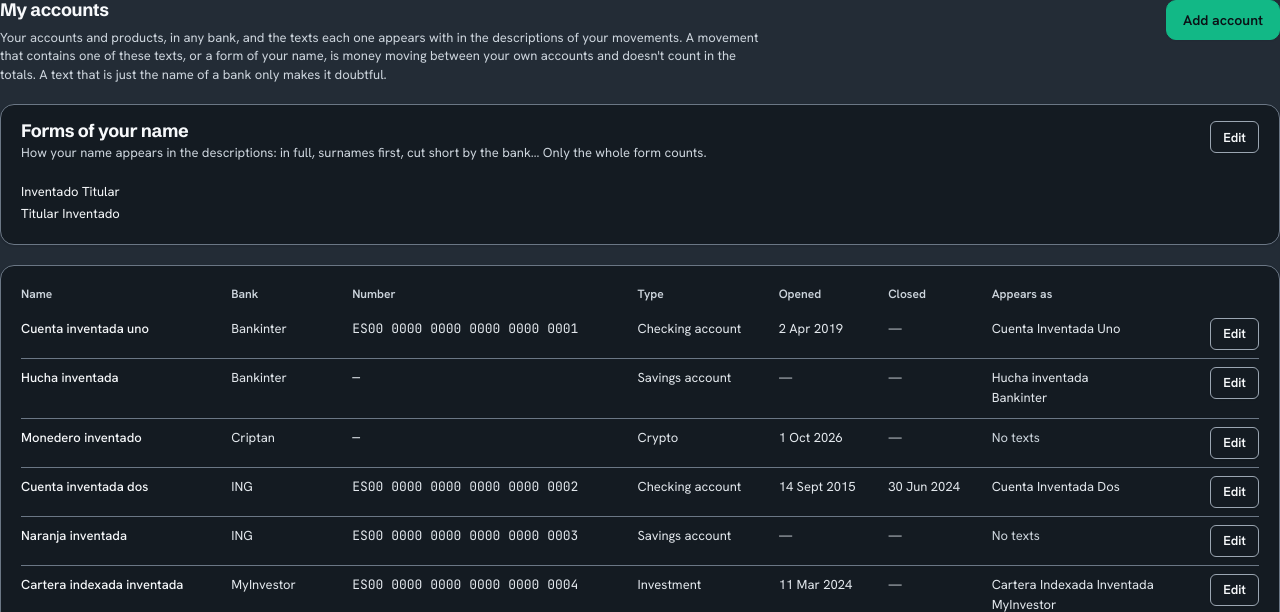
Scenario: OwnAccountsView › shows the forms of your name above the table
This screenshot has width=1280, height=612.
Check: the heading "Forms of your name" is shown, box [21,119,188,142]
Check: the element with test id "holder-names" shows "How your name appears in the descriptions: in full, surnames first, cut short by the bank… Only the whole form counts.", box [21,144,707,161]
Click the button with test id "holder-names-edit" at (1235,137), box [1210,121,1259,153]
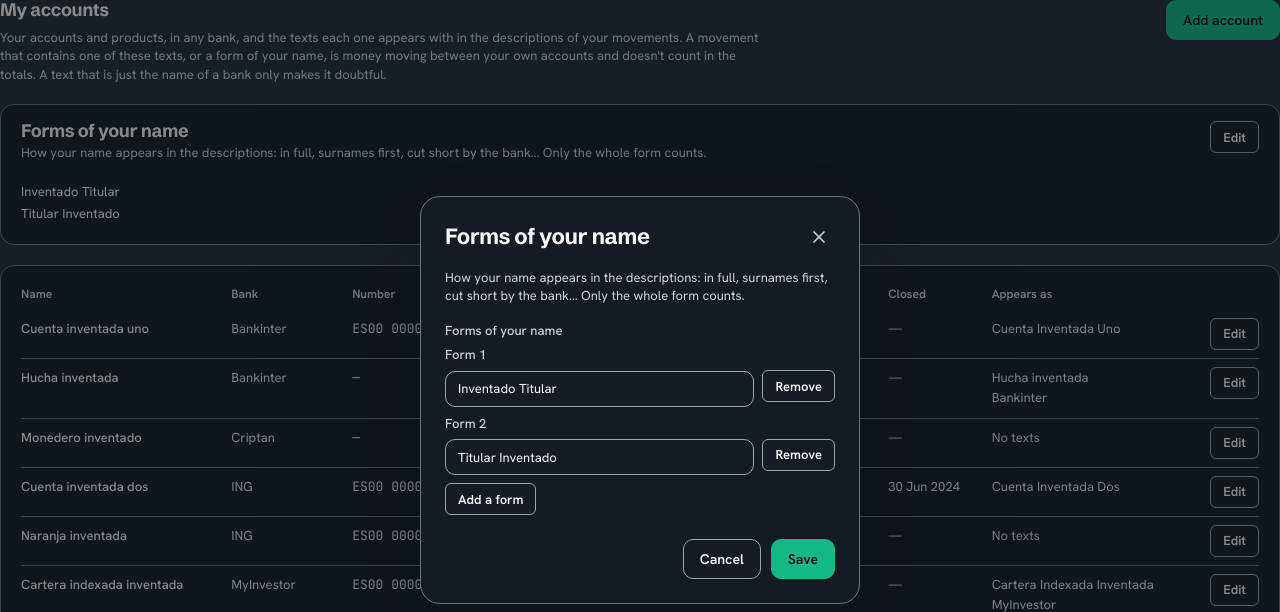
Click the button with test id "text-list-remove" at (799,386), box [762,370,835,402]
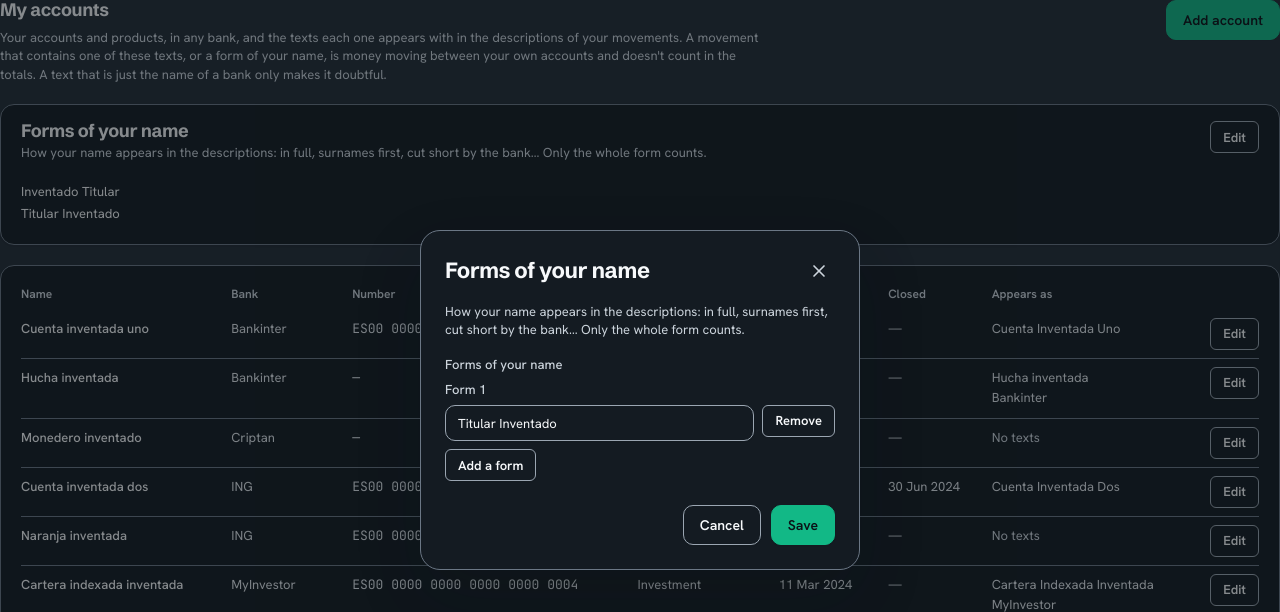
Click the button with test id "names-save" at (803,525), box [771,505,835,545]
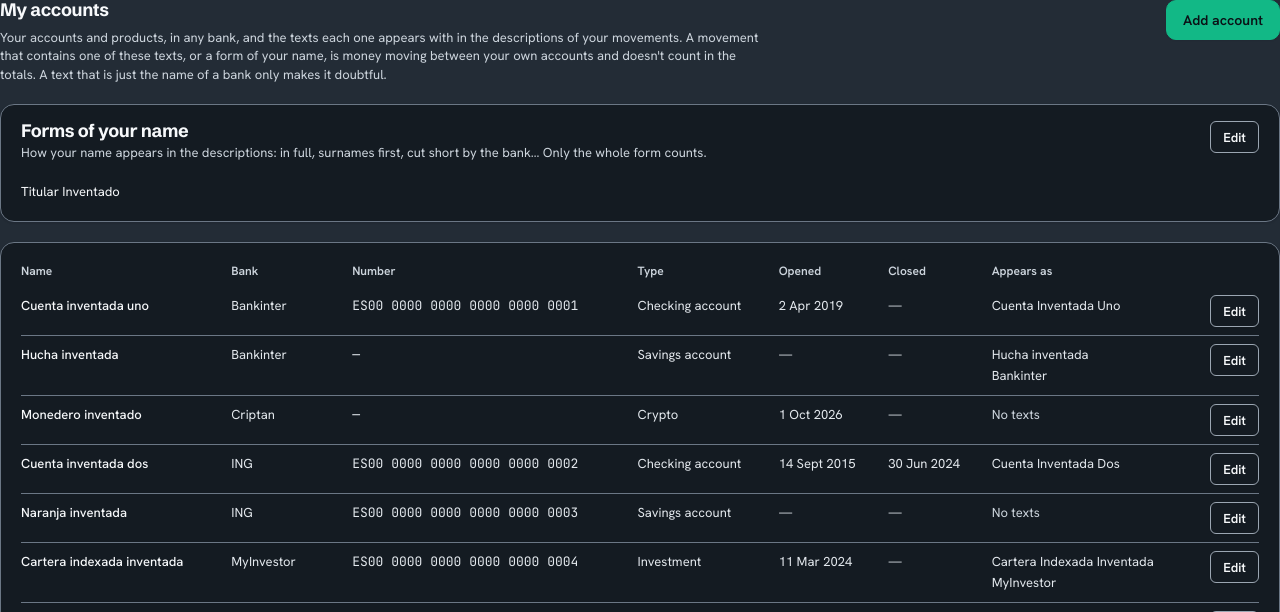
Check: the elements with test id "holder-name" read "Titular Inventado", in this order, box [21,183,120,200]
Check: the dialog with test id "names-dialog" is gone
